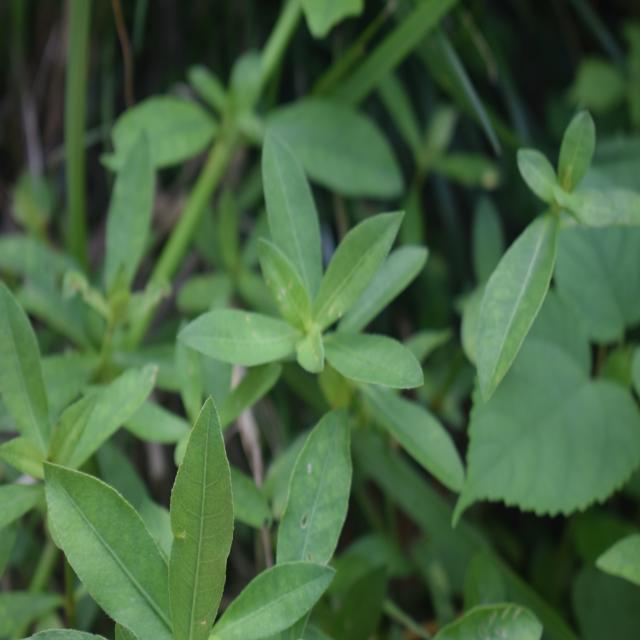Alligatorweed: (194, 152, 431, 476)
